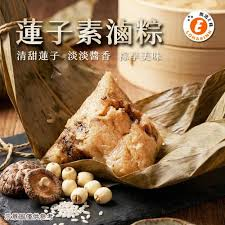zongzi: (44, 73, 162, 175)
